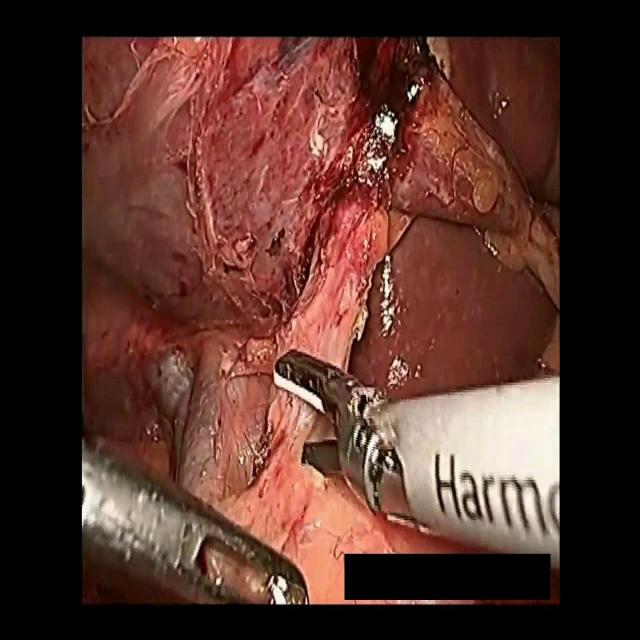surgical-area: (80, 33, 559, 607)
surgical-tool: (271, 345, 560, 554), (80, 427, 310, 605)
